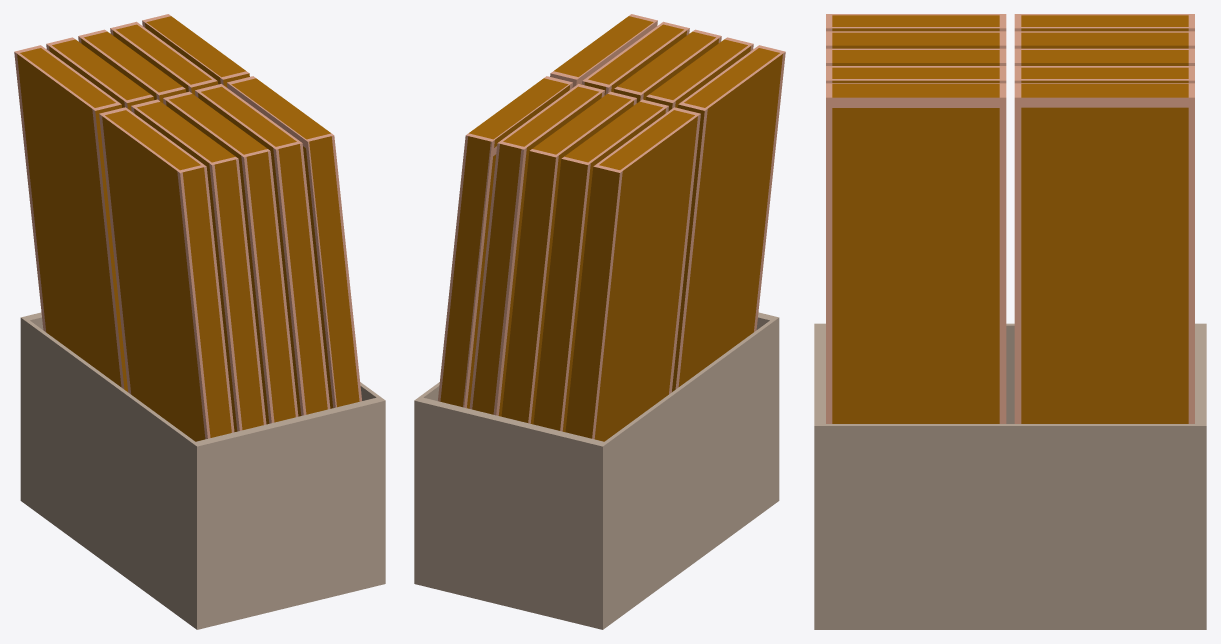
The model's file is Vanillepudding.fbx.
3 renders of one model, left to right at view 1: azimuth 30°, elevation 25°; view 2: azimuth 150°, elevation 25°; view 3: azimuth 270°, elevation 25°, orthographic. The views are drawn at different scales.
Visible parts, largest first — view 1: Cube; view 2: Cube; view 3: Cube.
Part boxes in pixels (x1=…): Cube: x1=14, y1=14, x2=385, y2=629; Cube: x1=414, y1=14, x2=785, y2=629; Cube: x1=814, y1=14, x2=1206, y2=629.
Size of the model in its own units: 39.35 by 85.53 by 60.
